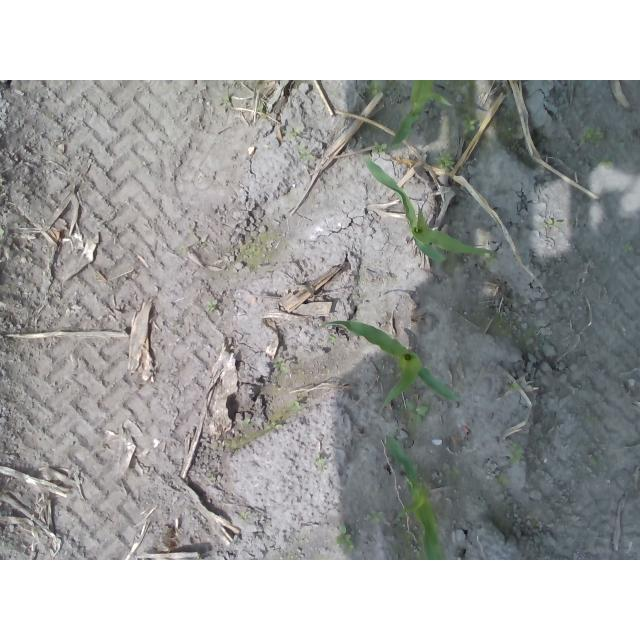Maize: (365, 157, 499, 264), (315, 316, 462, 413), (383, 434, 444, 560), (393, 82, 452, 147)
Weeds: (404, 399, 428, 424), (336, 524, 356, 551), (582, 127, 606, 145), (436, 152, 459, 169), (293, 144, 313, 161), (510, 441, 525, 463), (460, 119, 476, 134), (373, 140, 388, 156), (368, 509, 385, 523), (219, 95, 234, 110), (368, 81, 383, 96), (286, 128, 302, 142), (273, 360, 291, 372), (597, 158, 615, 170), (445, 466, 459, 481), (502, 383, 519, 395), (287, 399, 302, 412), (264, 421, 282, 431), (205, 299, 219, 311), (325, 334, 339, 346), (496, 474, 508, 486), (314, 455, 326, 466), (207, 471, 218, 481), (545, 218, 556, 227), (286, 552, 294, 560)
